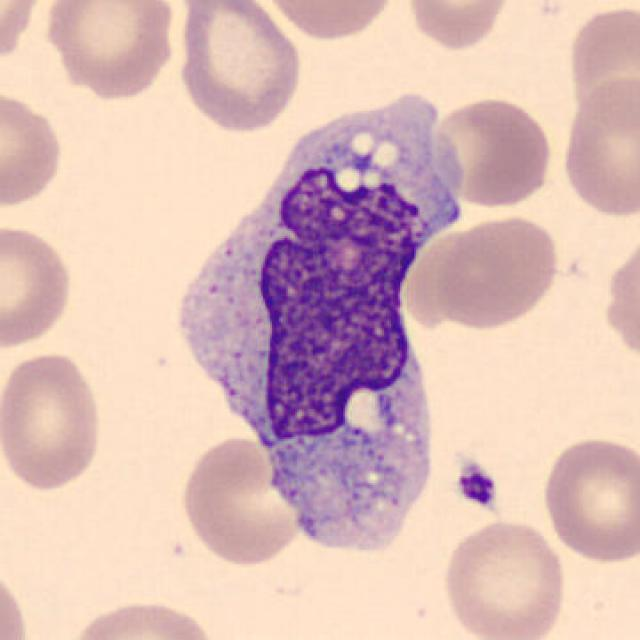Monocyte: (164, 78, 454, 526)
Platelets: (452, 460, 499, 511)
RBC: (202, 520, 402, 640), (172, 0, 306, 136), (176, 433, 302, 568), (437, 516, 570, 640), (426, 212, 562, 332), (0, 349, 107, 494), (430, 92, 555, 210), (40, 0, 179, 100), (537, 432, 638, 566), (556, 72, 638, 220), (0, 220, 76, 350), (564, 2, 638, 127), (0, 85, 68, 212), (61, 596, 220, 640), (258, 0, 402, 42), (402, 0, 514, 51), (0, 0, 46, 72), (0, 562, 32, 640)
